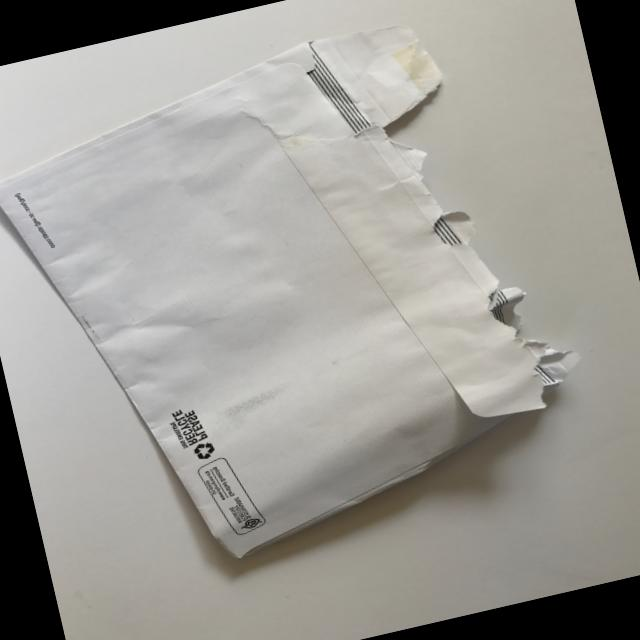Paper: (0, 0, 596, 638)
